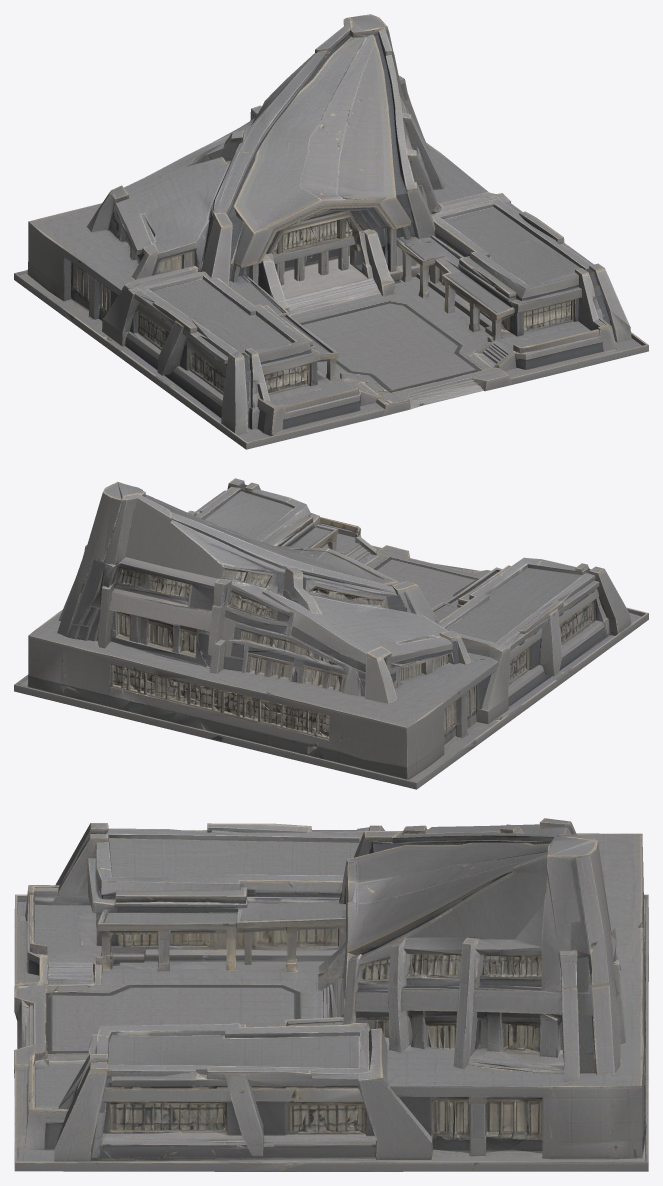
File: imperial_cultural_district_lod1.glb
The picture shows the model from 3 angles, top to bottom: view 1: azimuth 30°, elevation 25°; view 2: azimuth 150°, elevation 25°; view 3: azimuth 270°, elevation 25°; orthographic projection. The views are drawn at different scales.
Visible parts, largest first — view 1: mesh_node; view 2: mesh_node; view 3: mesh_node.
Part boxes in pixels (<box>): mesh_node: <box>14,14,648,449</box>; mesh_node: <box>14,478,648,789</box>; mesh_node: <box>14,818,648,1171</box>.
Bounding box in the file's own units: 39.62 × 18.87 × 39.6.
1 material, 1 textured.
